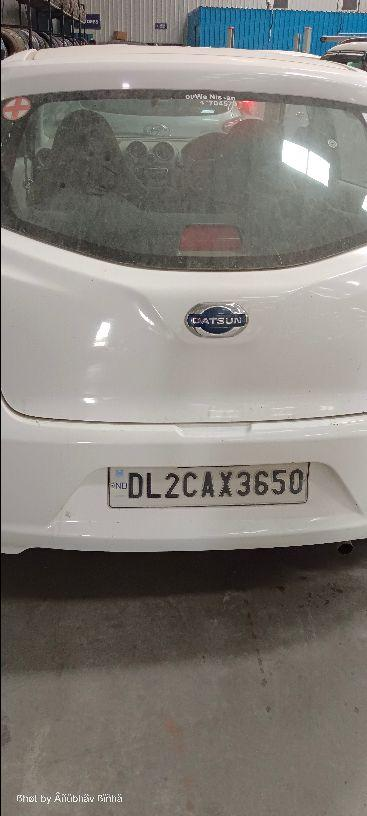license_plate: (106, 460, 309, 508)
